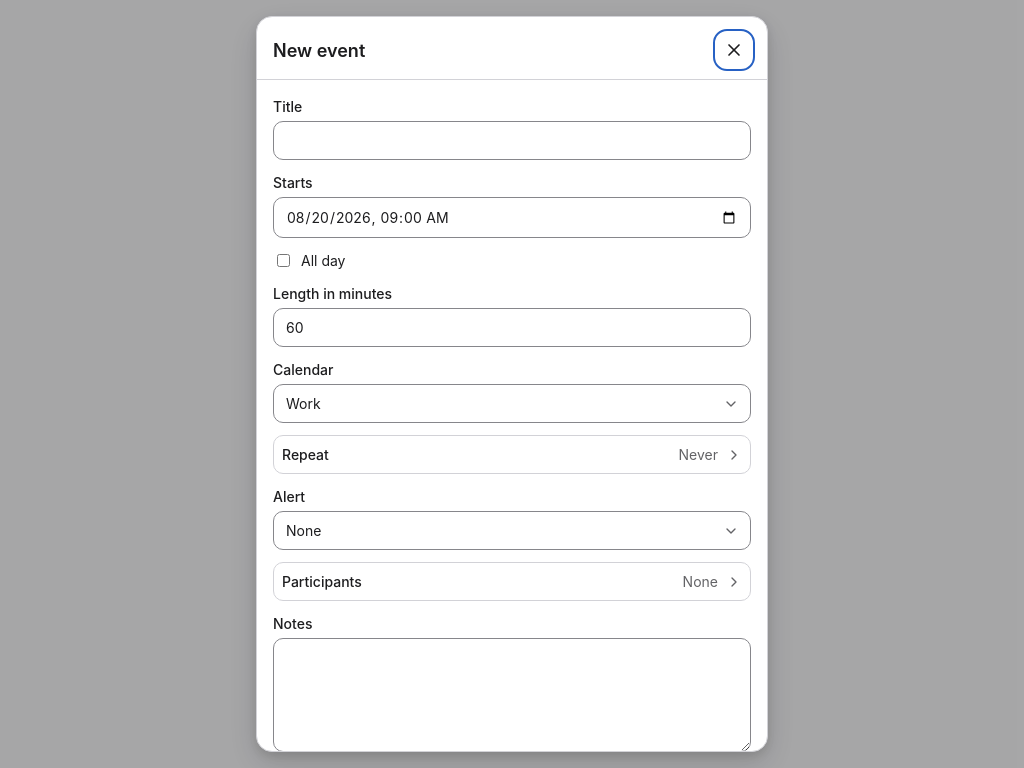
Test case: the length field (T14) › answers in the page when the value will not be sent
In the field labelled "Title": (512, 140) [273,121,751,160], type "Standup"
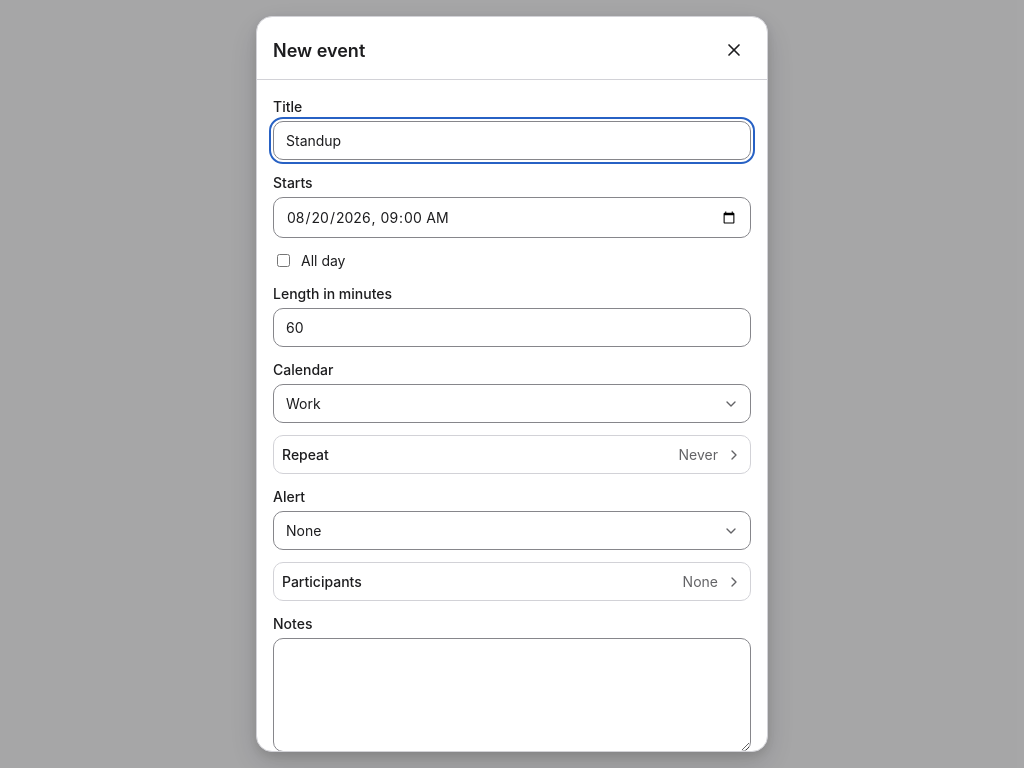
Clear the number field labelled "Length in minutes": (512, 328) [273,308,751,347]
(page scrolled)
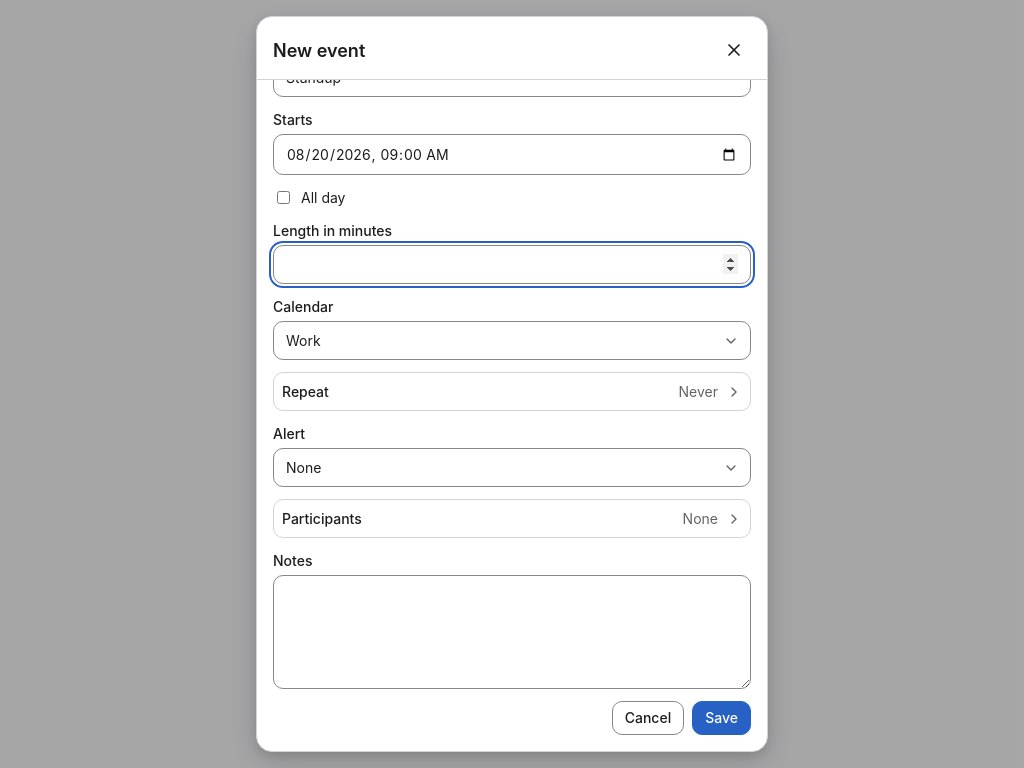
Click the button "Save": (722, 718) [692,701,751,735]
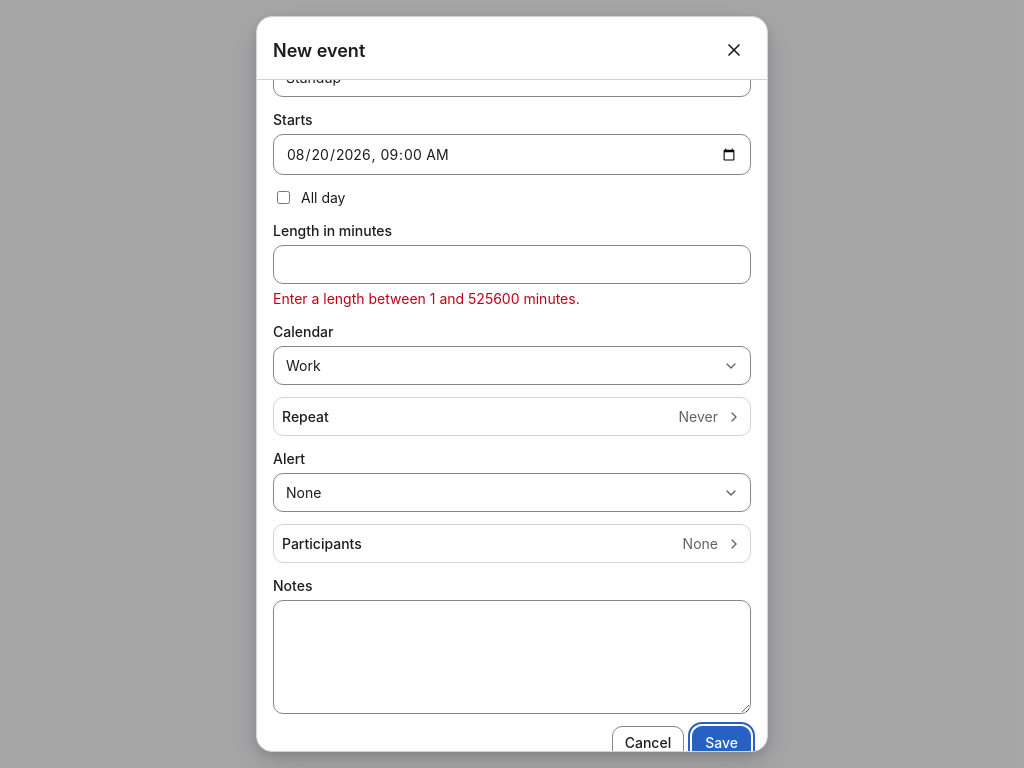
Now the text "Enter a length between 1 and 525600 minutes." is shown, box [273,290,580,307]
